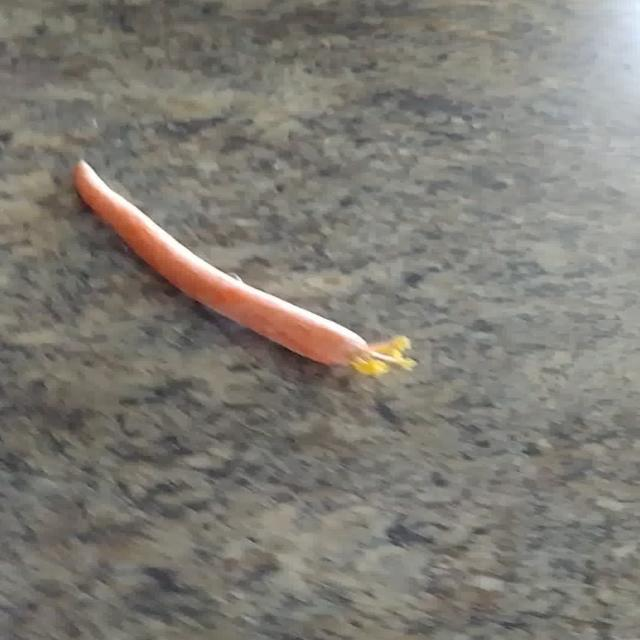carrot: (76, 161, 416, 376)
